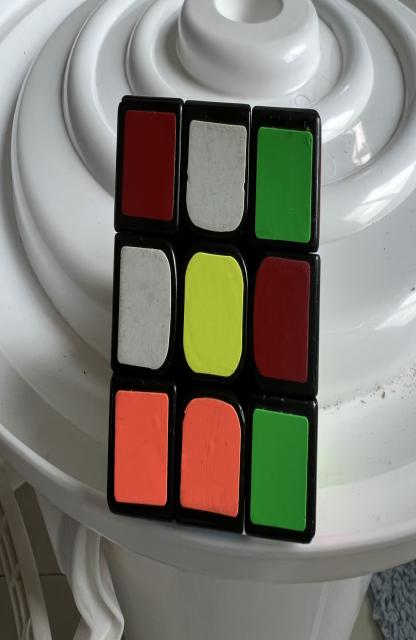Green: (250, 408, 309, 532), (255, 127, 313, 243)
Orange: (180, 398, 241, 517), (114, 390, 169, 507)
Red: (254, 257, 310, 383), (121, 110, 176, 222)
White: (186, 120, 247, 232), (117, 247, 171, 370)
Yellow: (183, 252, 244, 377)
